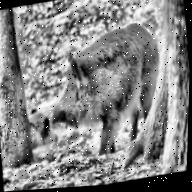boar: (38, 17, 169, 164)
